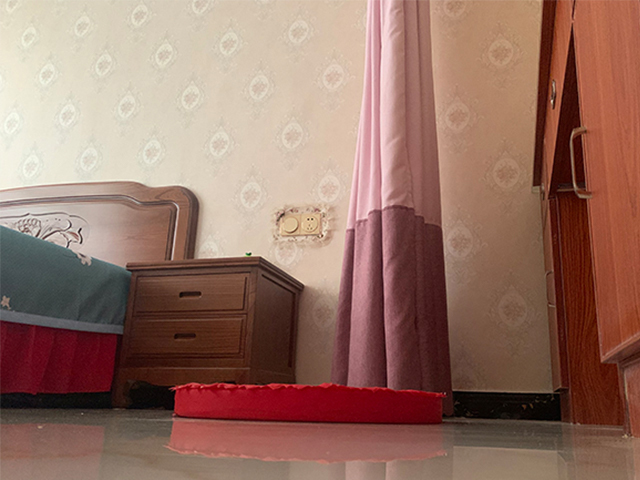bed: (1, 180, 200, 398)
cabinet: (109, 255, 305, 412)
curtain: (330, 1, 453, 417)
table: (530, 1, 640, 439)
